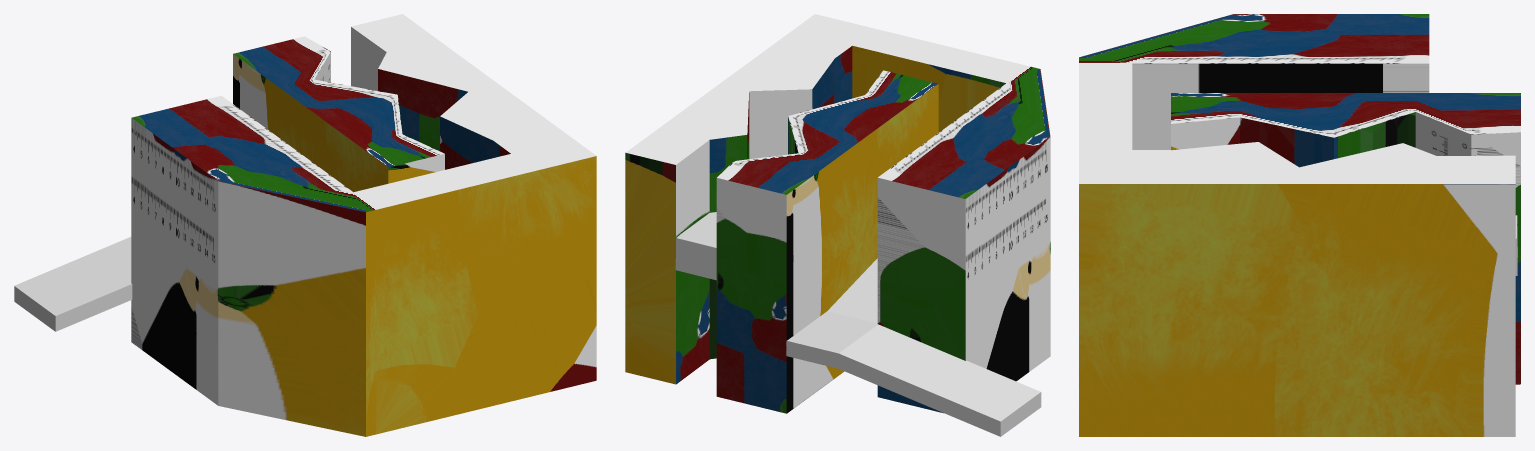
File: CarLevel.fbx
3 views of the same model, side by side, from view 1: azimuth 30°, elevation 25°; view 2: azimuth 150°, elevation 25°; view 3: azimuth 270°, elevation 25° (orthographic). The views are drawn at different scales.
Parts seen in each view (by area): view 1: Cube.001, Cube.002, Cube; view 2: Cube.001, Cube.002, Cube; view 3: Cube.001, Cube.002.
Part boxes in pixels (x1,y1,x2,y2): Cube.001: (131,14,596,436); Cube.002: (233,36,444,192); Cube: (14,237,132,331); Cube.001: (625,14,1050,413); Cube.002: (716,70,938,413); Cube: (675,212,1041,436); Cube.001: (1079,14,1515,436); Cube.002: (1171,93,1520,384).
Bounding box in the file's own units: 1077 × 598 × 948.
